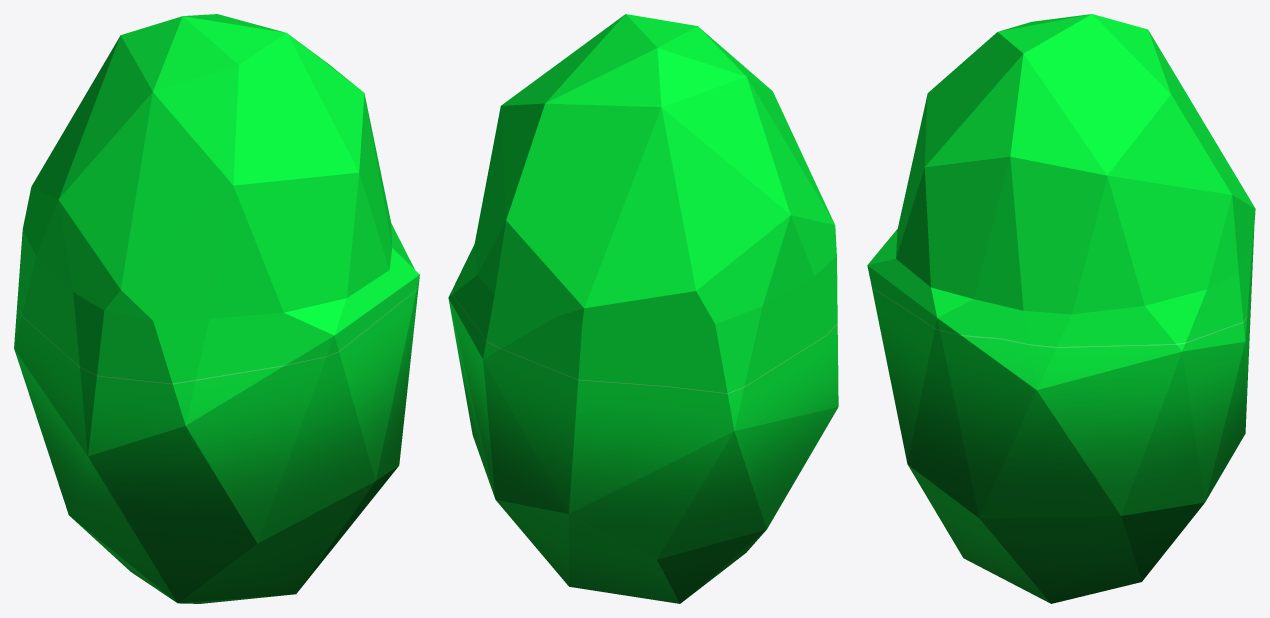
Rendered from BushB.fbx.
3 views of the same model, side by side, from view 1: azimuth 30°, elevation 25°; view 2: azimuth 150°, elevation 25°; view 3: azimuth 270°, elevation 25° (orthographic). The views are drawn at different scales.
Visible parts, largest first — view 1: BushB; view 2: BushB; view 3: BushB.
Part boxes in pixels (left/top/right/bottom): BushB: left=14, top=14, right=419, bottom=603; BushB: left=448, top=14, right=838, bottom=603; BushB: left=867, top=14, right=1255, bottom=603.
Bounding box in the file's own units: 200 × 321 × 201.
